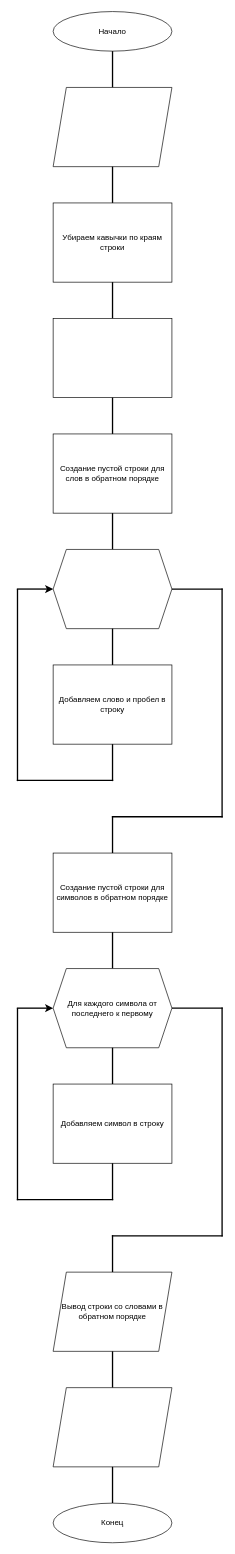
This 235x1554 diagram has some shape labels left out. Each missing label, with the box of its shape:
Ввод строки: (52, 87, 172, 167)
Вывод строки задом наперёд: (52, 1387, 172, 1467)
Для каждого слова от последнего к первому: (52, 549, 172, 629)
Разбиваем текст на слова: (52, 318, 172, 398)
